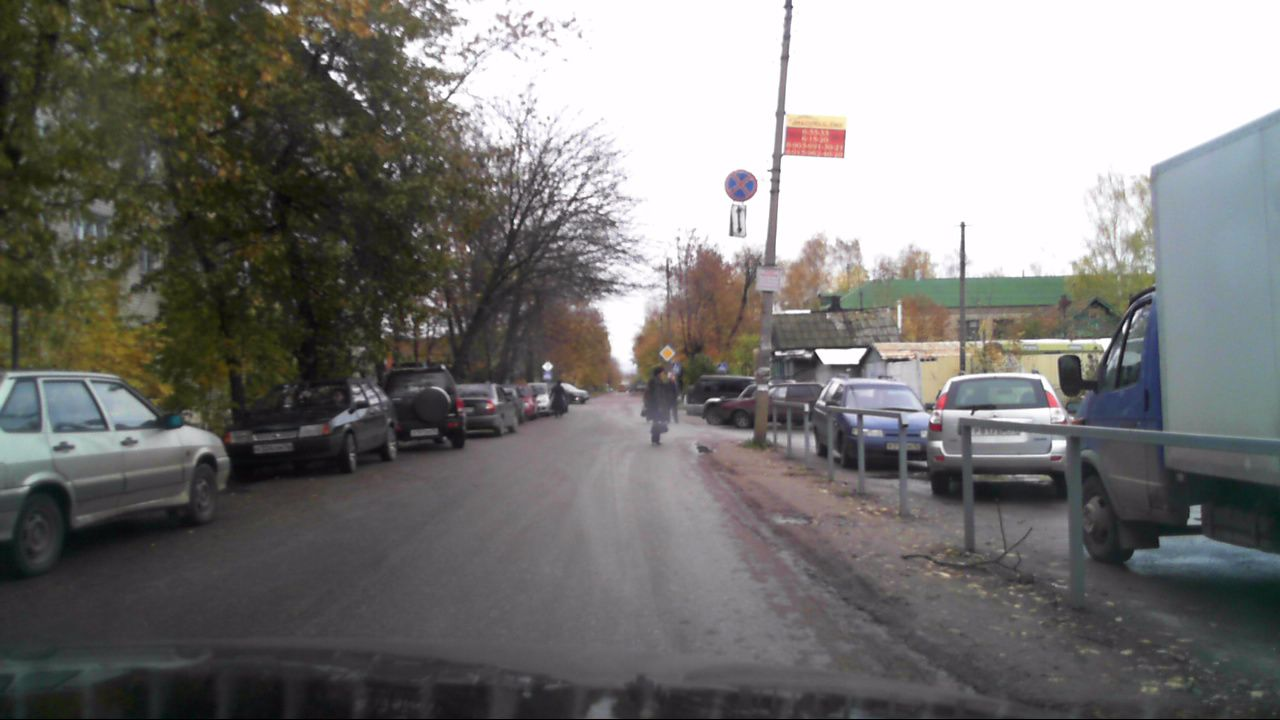No Parking: (725, 169, 758, 202)
